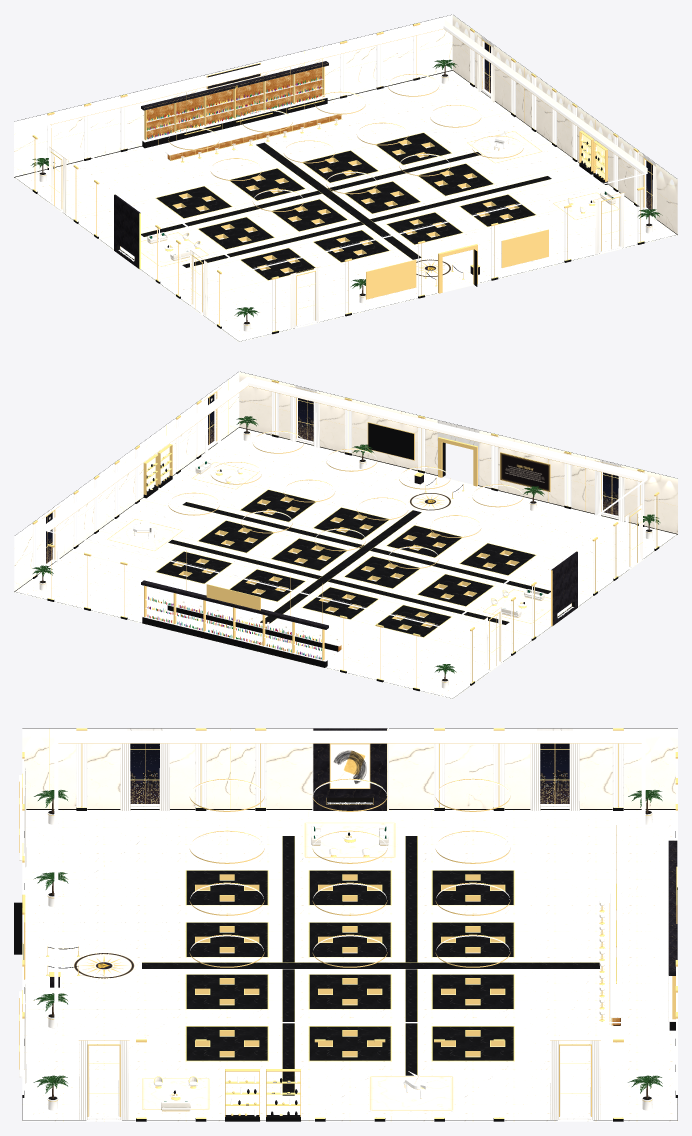
File: lb5_lounge.glb
3 views of the same model, one above another, from view 1: azimuth 30°, elevation 25°; view 2: azimuth 150°, elevation 25°; view 3: azimuth 270°, elevation 25° (orthographic). The views are drawn at different scales.
Parts seen in each view (by area): view 1: lb5_lounge; view 2: lb5_lounge; view 3: lb5_lounge.
Boxes of the visible parts, x1,y1,x2,y2 form: lb5_lounge: (14,14,677,342); lb5_lounge: (14,371,677,699); lb5_lounge: (14,728,677,1121).
Bounding box in the file's own units: 72.6 × 11.1 × 64.8.
Materials: 44 (20 with a texture image).
